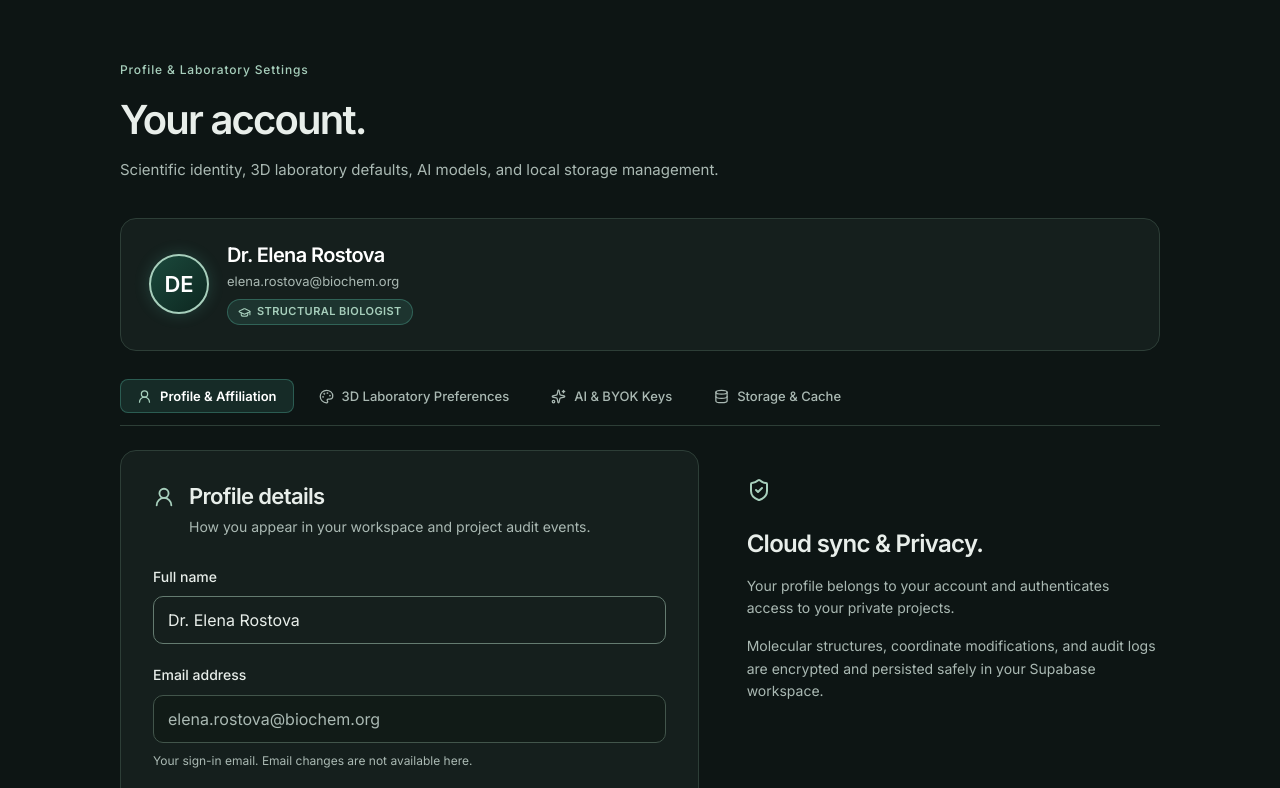
Enhanced AccountPage Component Tests › switches to 3D Laboratory Preferences and saves settings
The width and height of the screenshot is (1280, 788).
Note: Click on 3D Laboratory Preferences tab
Click the tab "3D Laboratory Preferences": (414, 396) [302, 379, 526, 413]
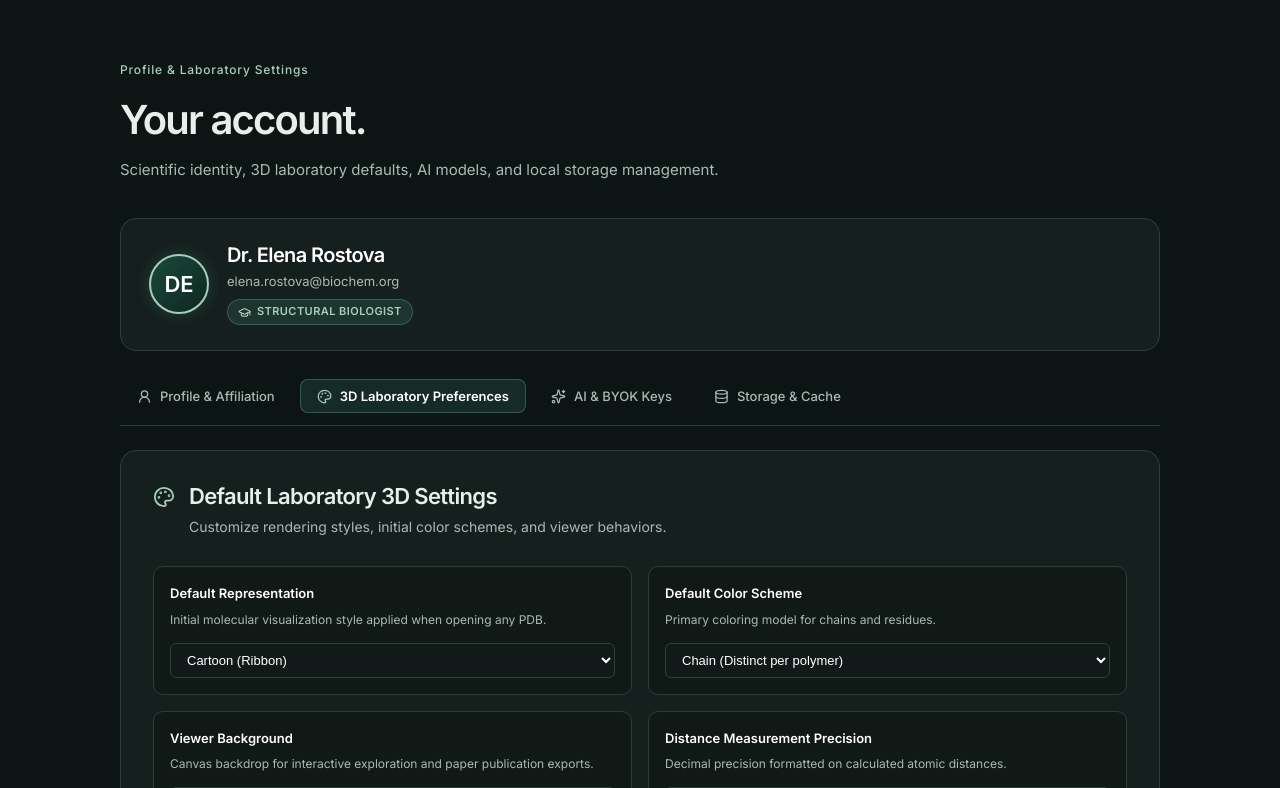
Expected: the heading "Default Laboratory 3D Settings" is shown, [189, 483, 497, 509]
Expected: the dropdown labelled "Default Representation" is shown
Note: Change representation to Stick
Select "Stick (Bonds & Atoms)" in the dropdown labelled "Default Representation": (392, 660) [170, 643, 615, 678]
(page scrolled)
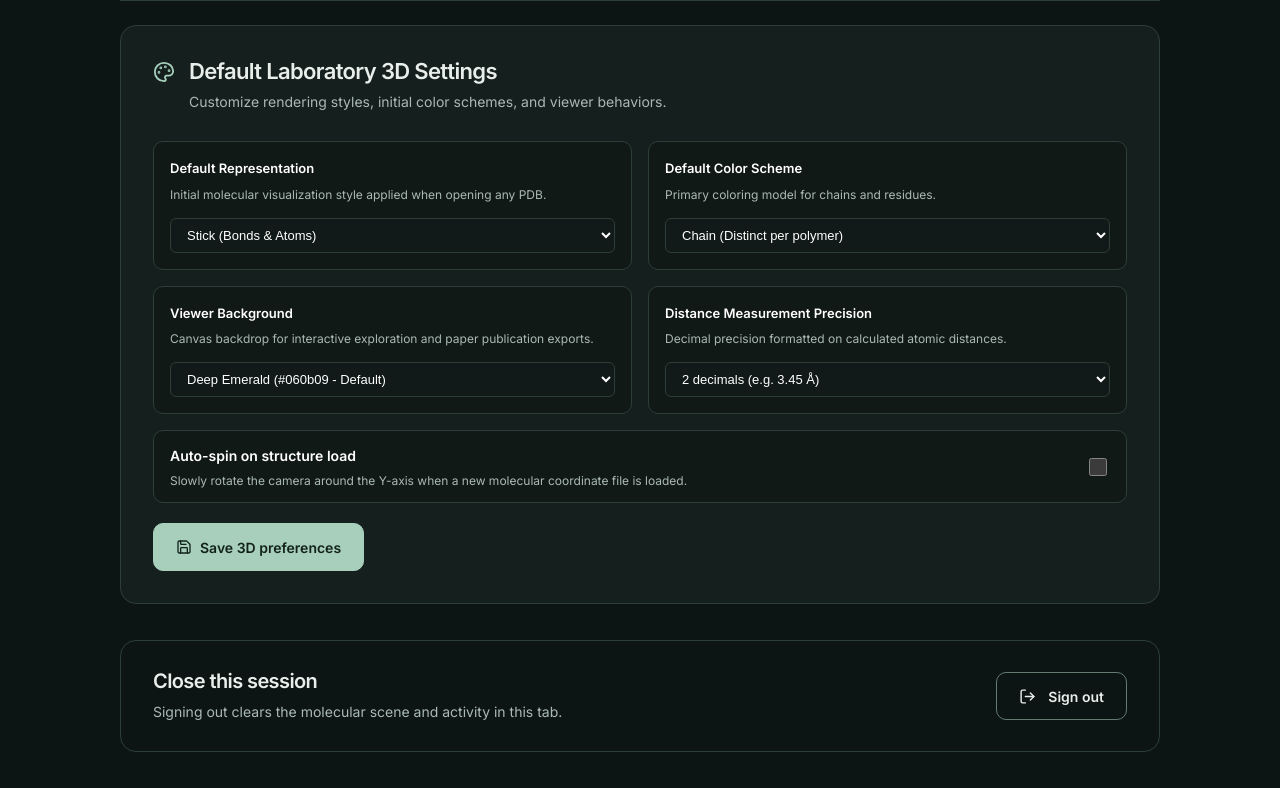
Note: Click Save
Click the button "Save 3D preferences": (259, 547) [153, 523, 364, 571]
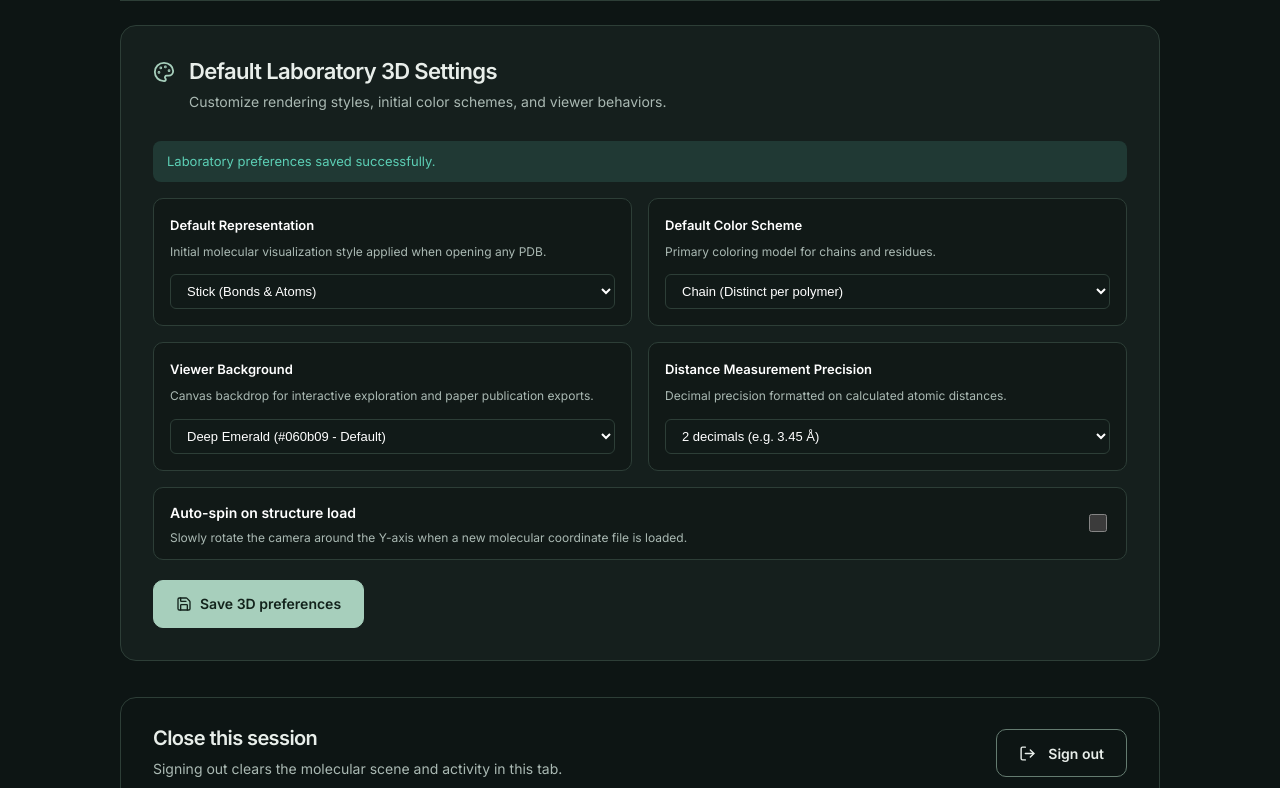
Expected: the text "Laboratory preferences saved successfully." is shown, [153, 141, 1127, 182]
